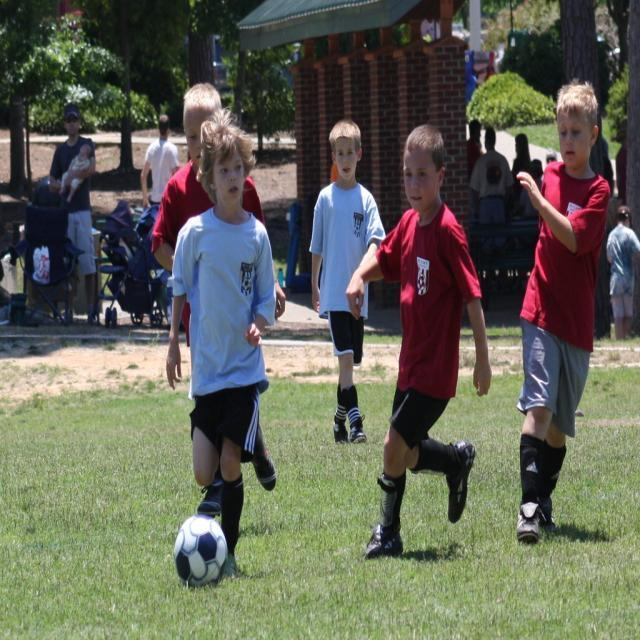football: (154, 514, 244, 592)
